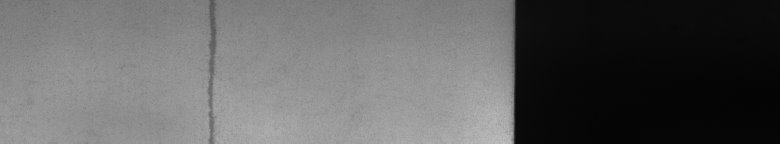hd: (204, 4, 222, 136)
